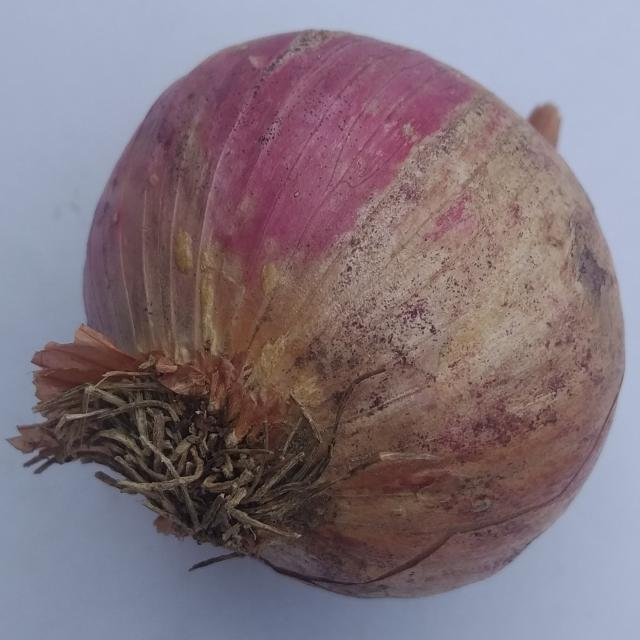onion: (7, 28, 627, 600)
